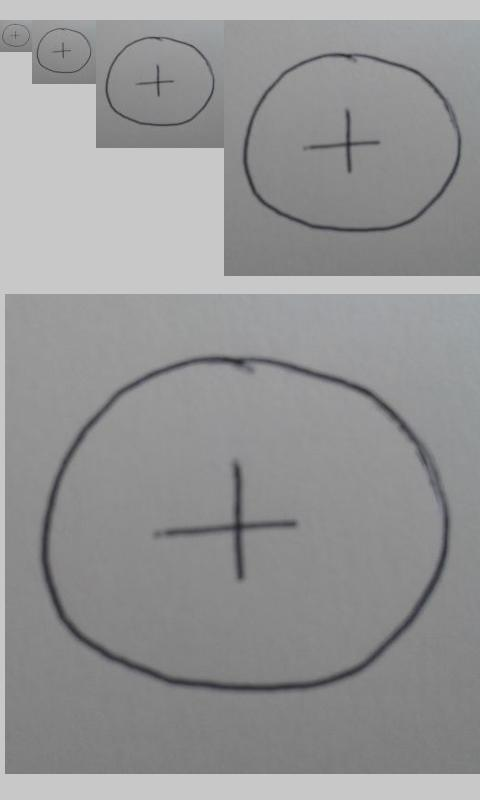button: (40, 352, 454, 698), (241, 51, 462, 234), (104, 35, 215, 127), (36, 27, 92, 74), (1, 23, 30, 47)
